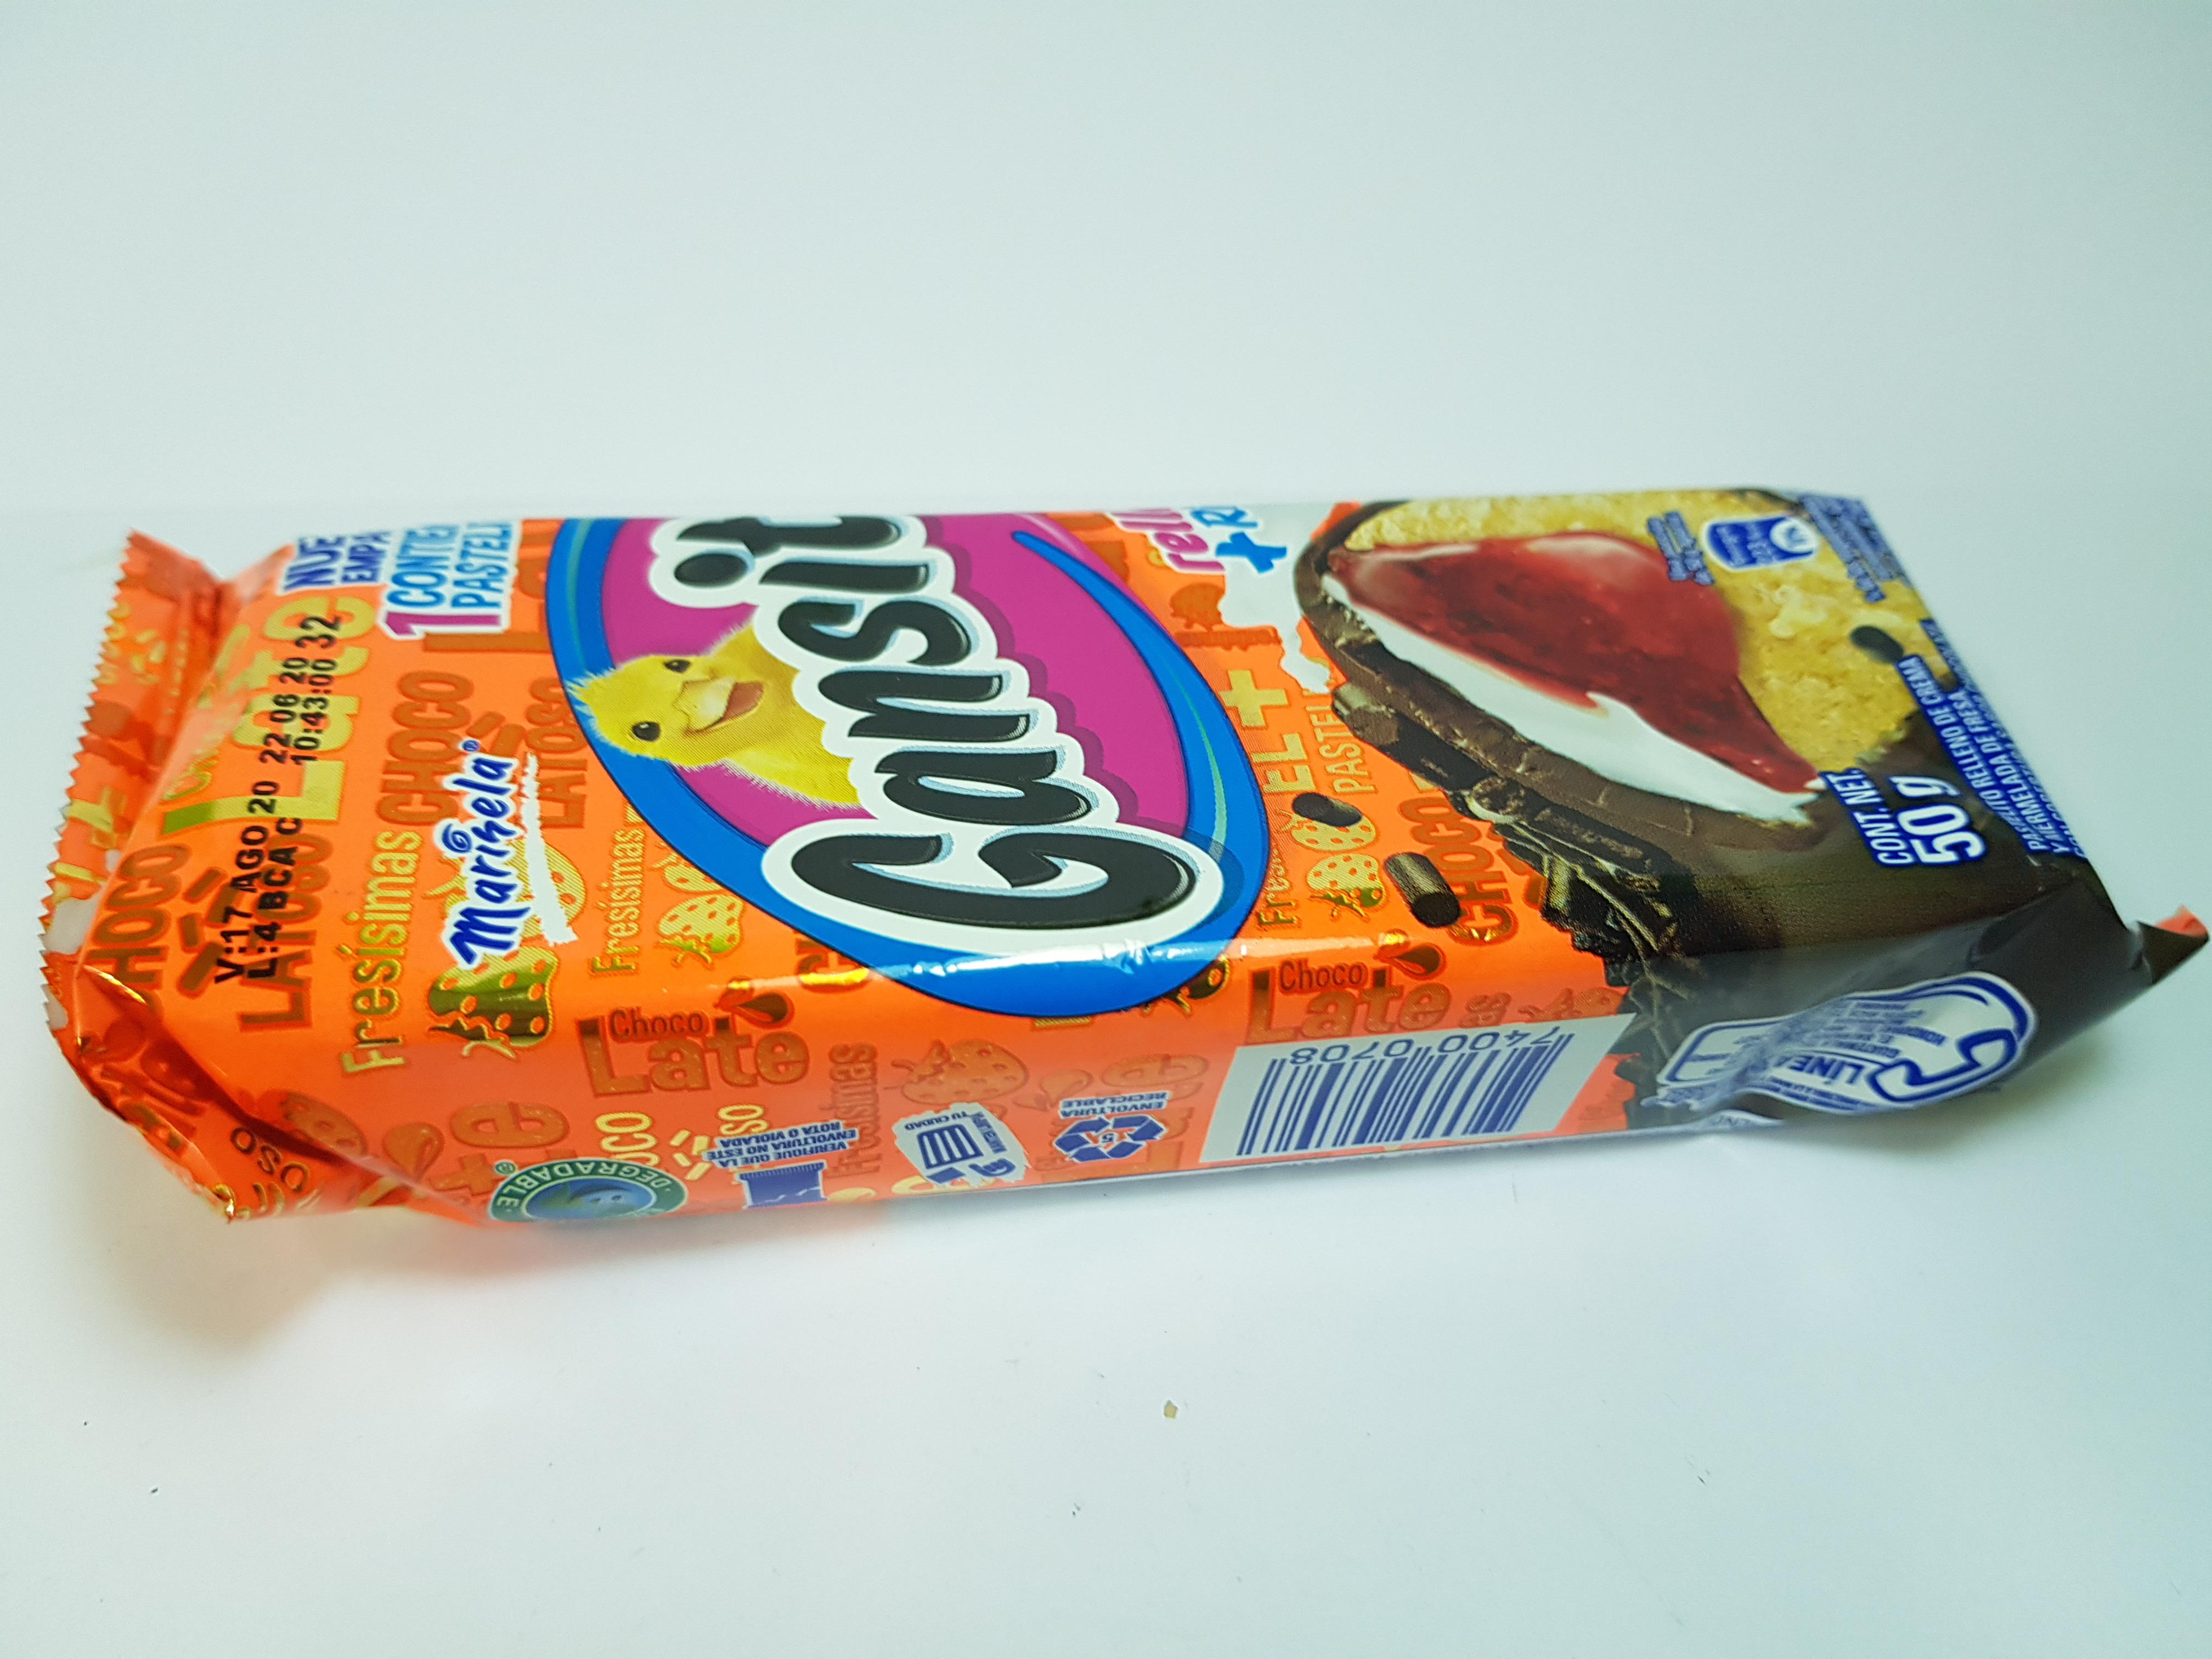gansito: (24, 479, 2212, 1251)
